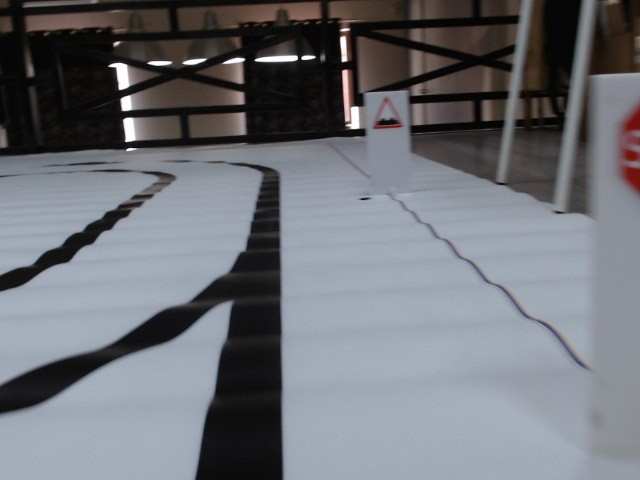Nerov: (370, 96, 404, 130)
